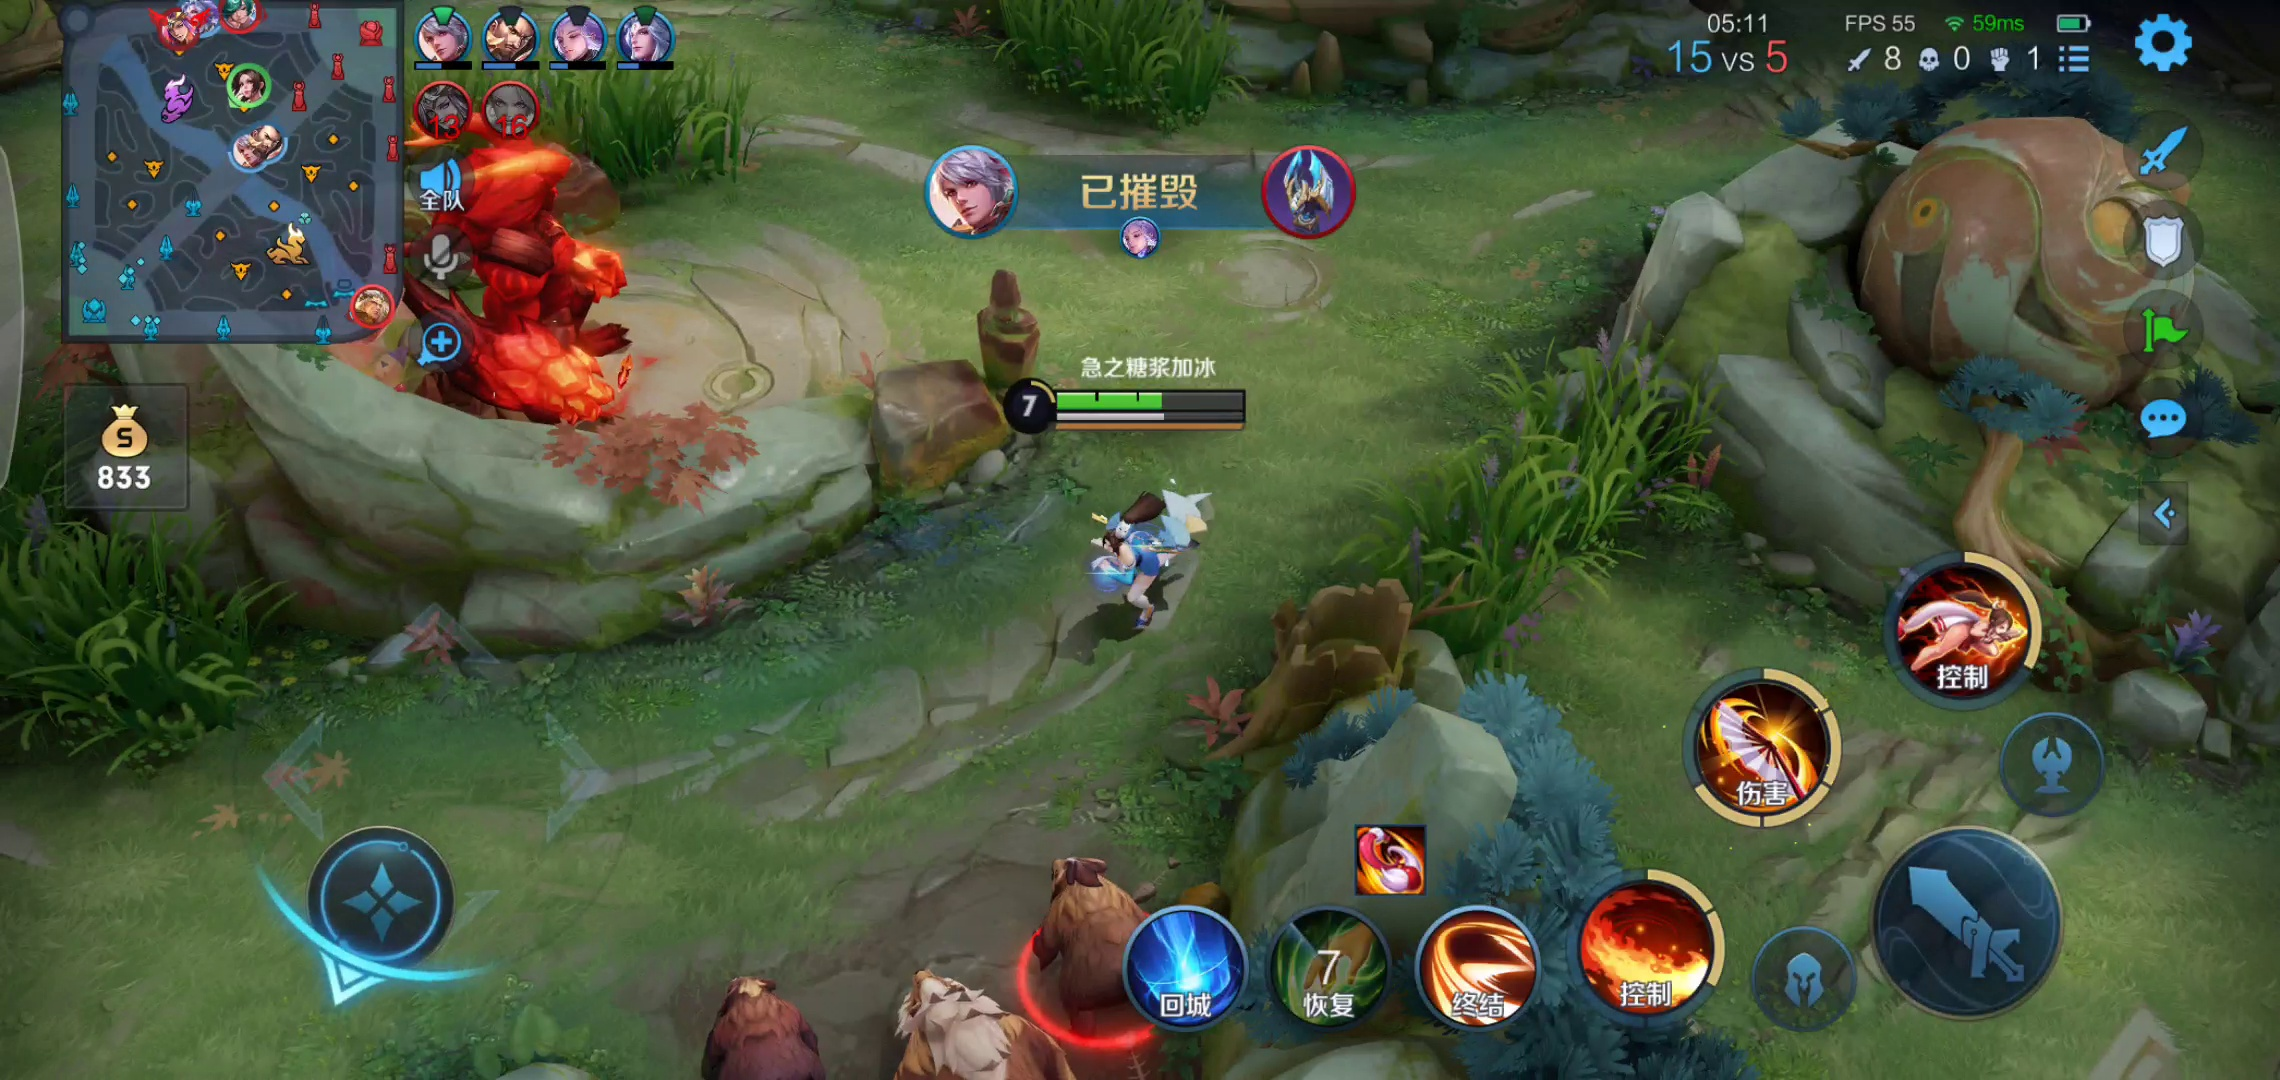buff: (400, 158, 643, 436)
grass: (1323, 382, 1694, 608), (1, 532, 281, 767), (499, 48, 766, 182), (997, 1, 1232, 119)
hero: (1072, 468, 1223, 632)
wild_monster: (695, 863, 1208, 1080)
